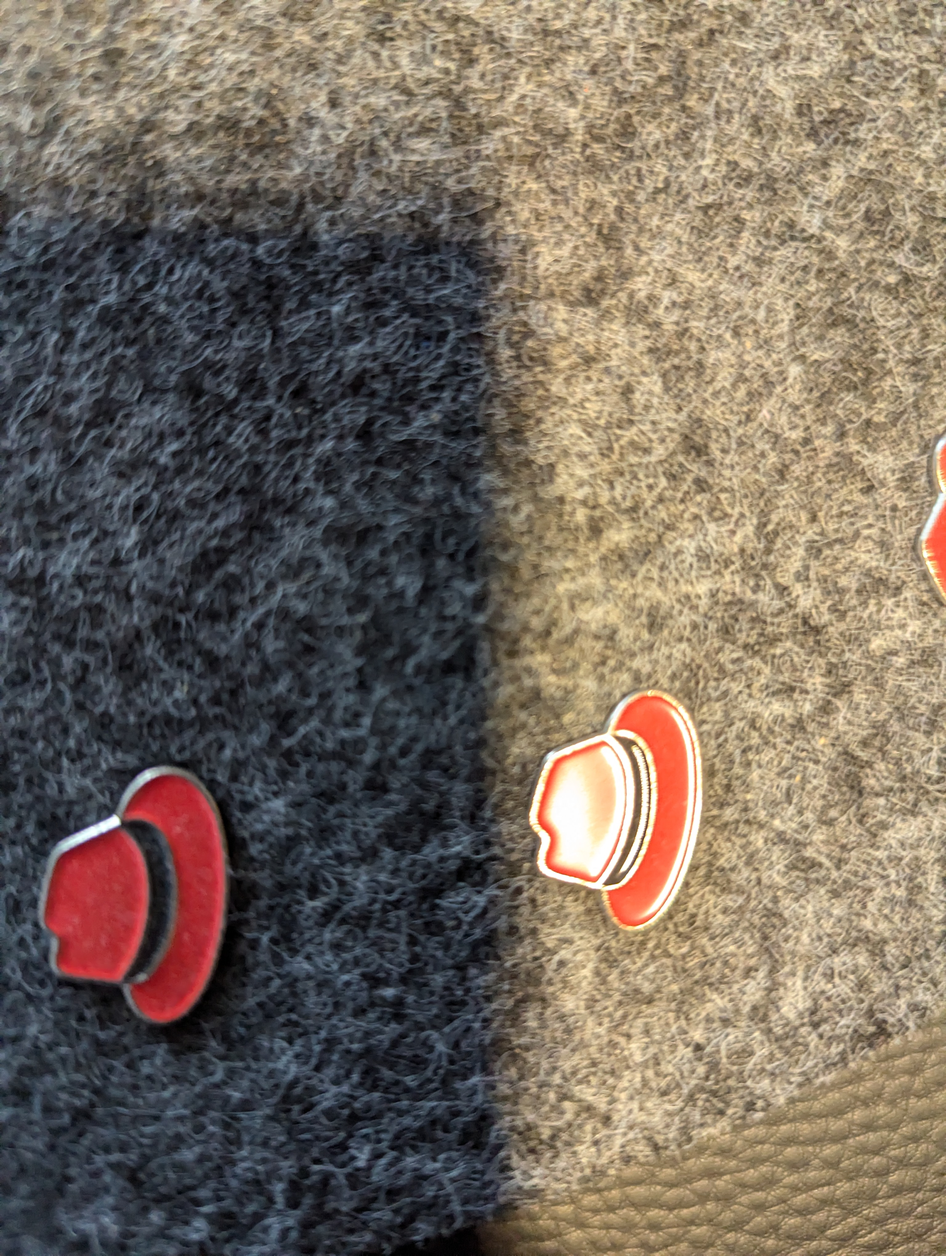Red-Hat: (523, 654, 752, 969), (25, 738, 254, 1048)
